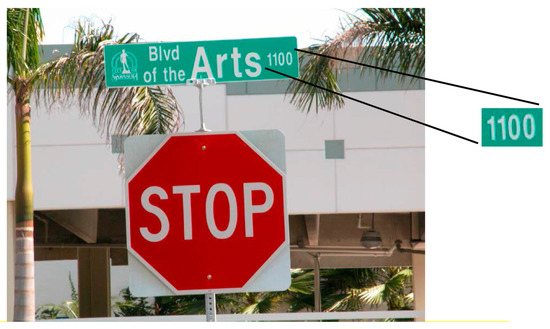stop: (123, 137, 288, 290), (125, 132, 288, 232), (126, 136, 231, 285), (124, 204, 287, 290), (201, 134, 286, 263)
